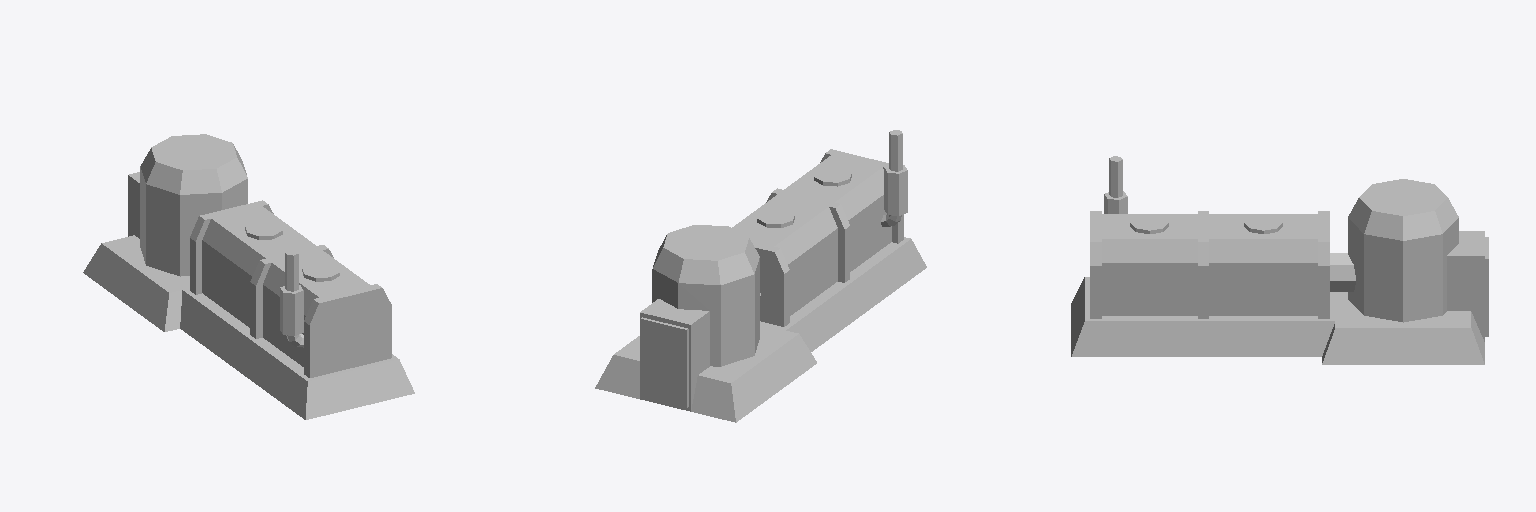
The model's file is generator_1.obj.
3 views of the same model, side by side, from view 1: azimuth 30°, elevation 25°; view 2: azimuth 150°, elevation 25°; view 3: azimuth 270°, elevation 25° (orthographic).
Visible parts, largest first — view 1: power_generator_Untitled.005; view 2: power_generator_Untitled.005; view 3: power_generator_Untitled.005.
Part boxes in pixels (bbox=[...]): power_generator_Untitled.005: bbox=[83, 134, 414, 419]; power_generator_Untitled.005: bbox=[595, 130, 926, 422]; power_generator_Untitled.005: bbox=[1071, 156, 1488, 364].
Bounding box in the file's own units: 5.17 × 5.21 × 13.23.